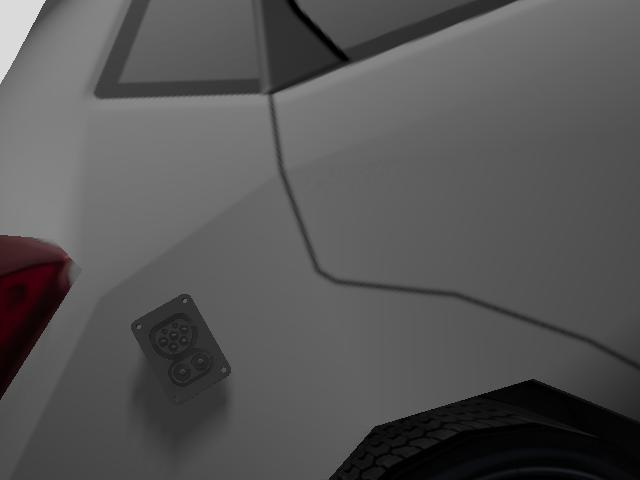EV-socket: (128, 287, 238, 415)
